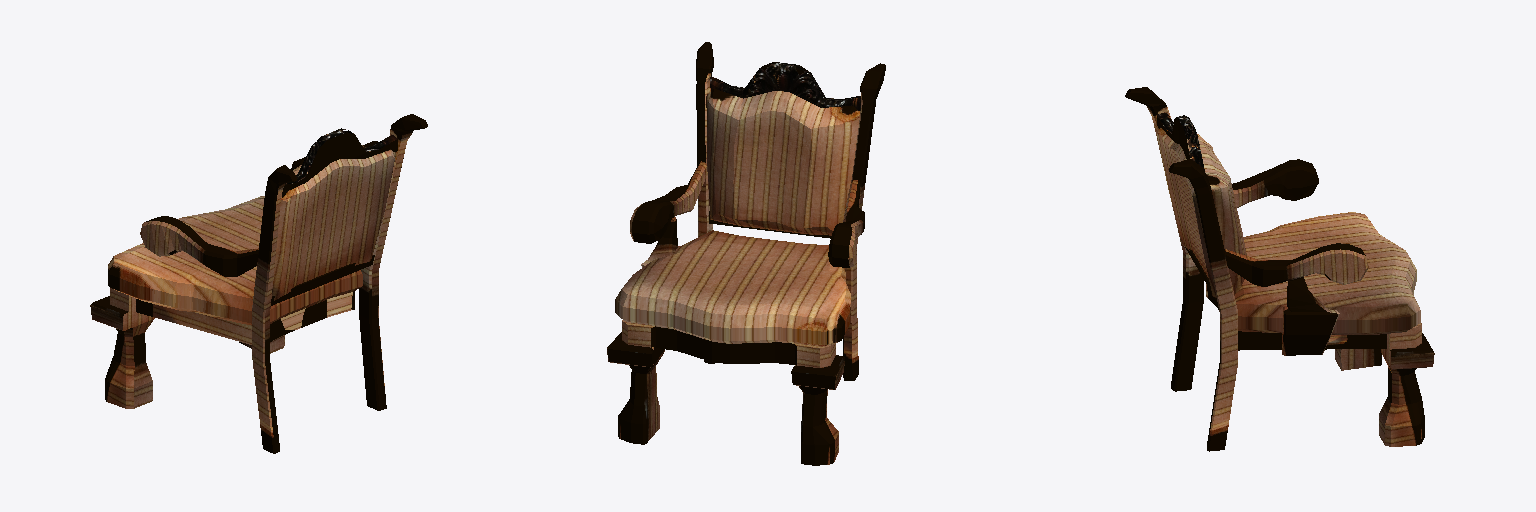
The picture shows the model from 3 angles: view 1: azimuth 30°, elevation 25°; view 2: azimuth 150°, elevation 25°; view 3: azimuth 270°, elevation 25°; orthographic projection.
Visible parts, largest first — view 1: LivingRoom_GEO_GRP_LivingRoom_Ceiling_05; view 2: LivingRoom_GEO_GRP_LivingRoom_Ceiling_05; view 3: LivingRoom_GEO_GRP_LivingRoom_Ceiling_05.
Boxes of the visible parts, x1=… form: LivingRoom_GEO_GRP_LivingRoom_Ceiling_05: x1=90, y1=114, x2=427, y2=453; LivingRoom_GEO_GRP_LivingRoom_Ceiling_05: x1=607, y1=42, x2=885, y2=465; LivingRoom_GEO_GRP_LivingRoom_Ceiling_05: x1=1125, y1=87, x2=1434, y2=451.
Size of the model in its own units: 0.9106 by 1.11 by 1.04.
Materials: 1 (1 with a texture image).